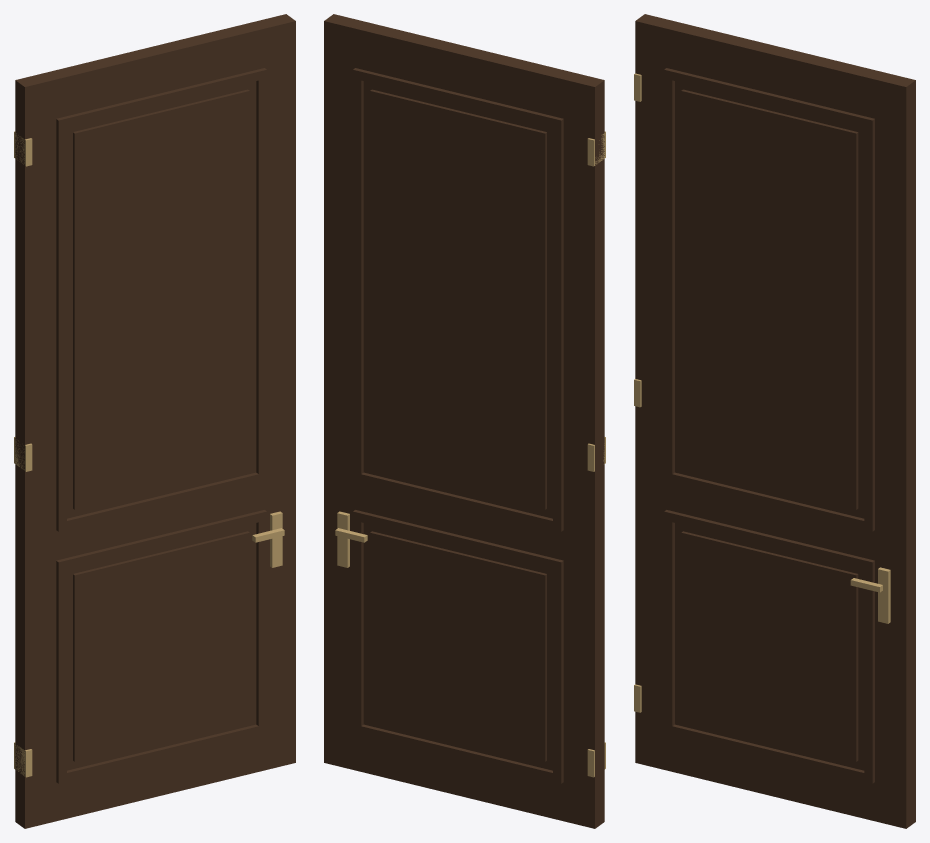
File: SM_Kapi_Ic_Genis.fbx
3 renders of one model, left to right at view 1: azimuth 30°, elevation 25°; view 2: azimuth 150°, elevation 25°; view 3: azimuth 330°, elevation 25°, orthographic.
Visible parts, largest first — view 1: Kapi_Ic_Genis; view 2: Kapi_Ic_Genis; view 3: Kapi_Ic_Genis.
Boxes of the visible parts, x1,y1,x2,y2 form: Kapi_Ic_Genis: (14,14,295,828); Kapi_Ic_Genis: (324,14,605,828); Kapi_Ic_Genis: (634,14,915,828).
Size of the model in its own units: 130 by 340 by 20.5.
